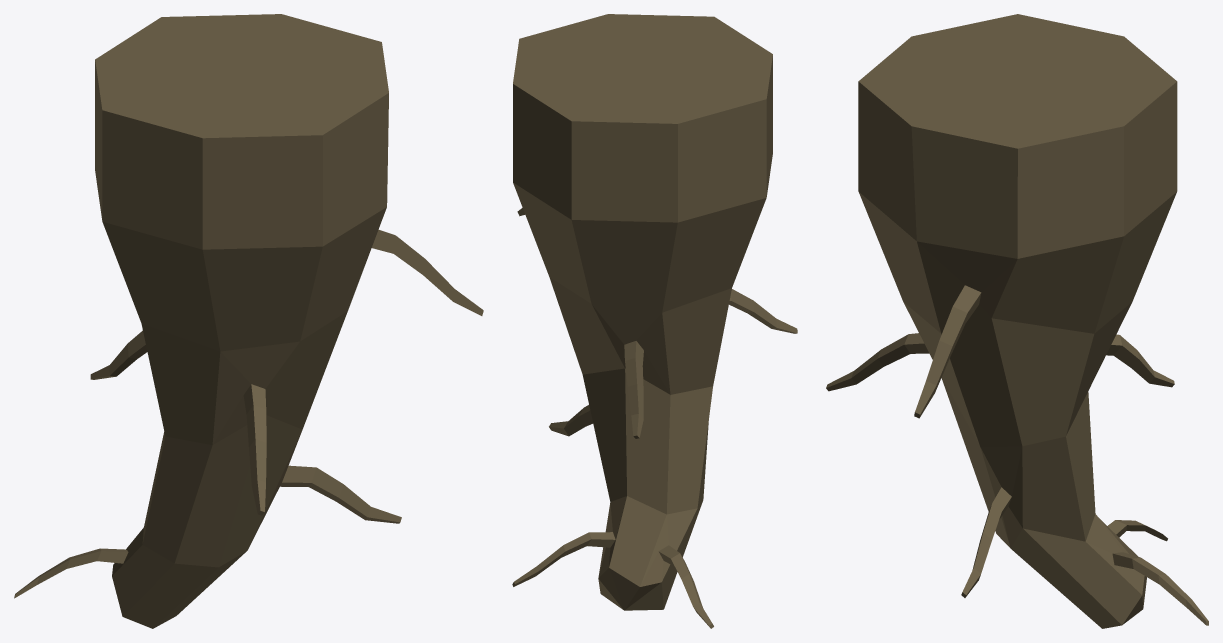
3 views of the same model, side by side, from view 1: azimuth 30°, elevation 25°; view 2: azimuth 150°, elevation 25°; view 3: azimuth 270°, elevation 25° (orthographic). The views are drawn at different scales.
Parts seen in each view (by area): view 1: Root.1.1; view 2: Root.1.1; view 3: Root.1.1.
Part boxes in pixels (<box>): Root.1.1: <box>14,14,483,628</box>; Root.1.1: <box>512,14,797,628</box>; Root.1.1: <box>826,14,1208,628</box>.
Size of the model in its own units: 64.89 by 102 by 63.07.
